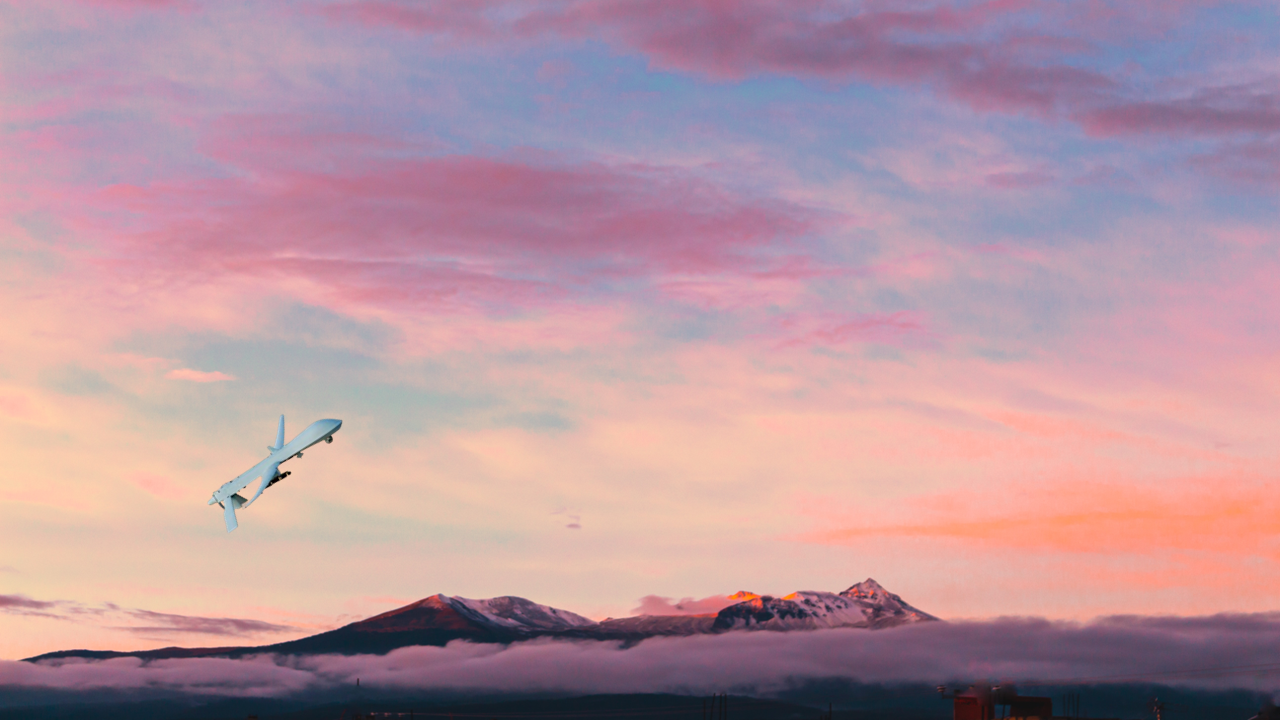military drone: (207, 413, 342, 533)
